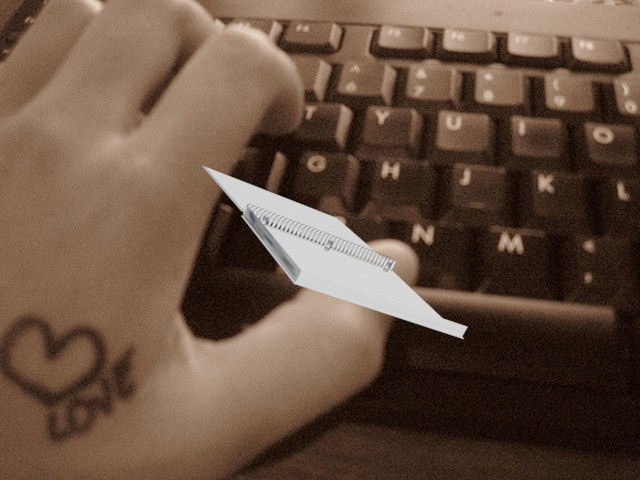paper_notebook: (201, 161, 472, 344)
